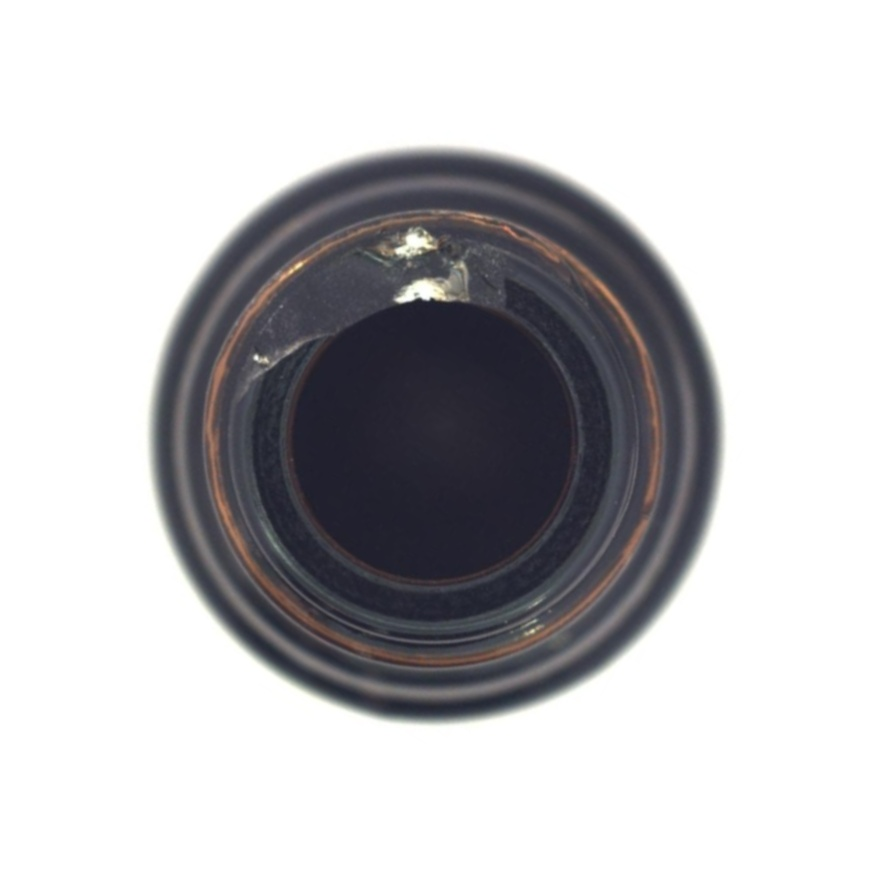bad-broken_small: (37, 40, 831, 833)
